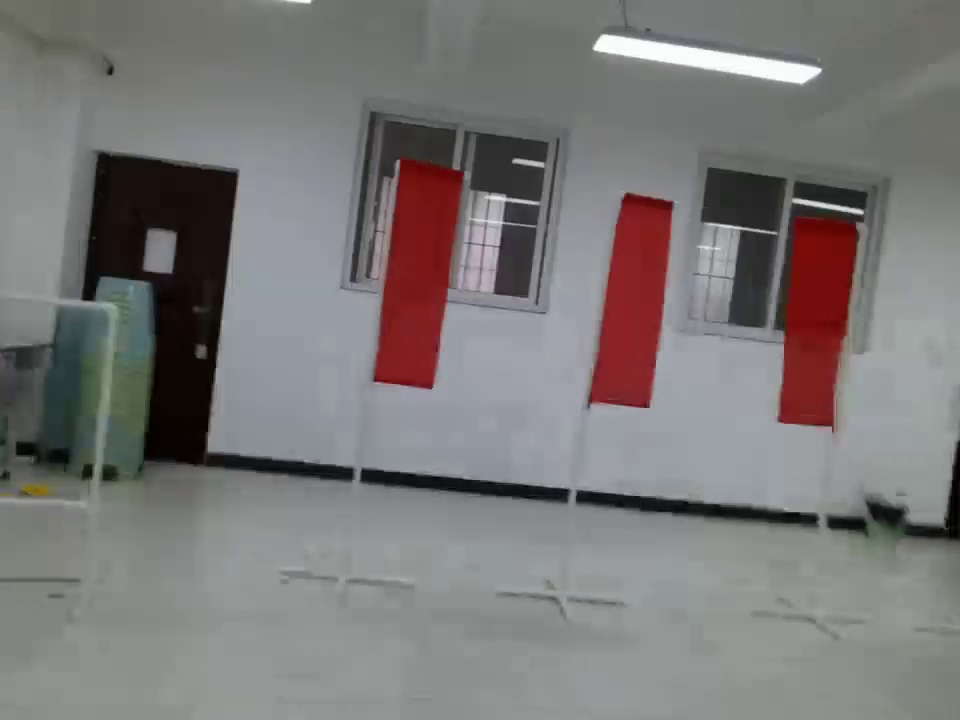qi: (370, 167, 465, 384), (587, 196, 673, 403), (776, 222, 859, 423)
